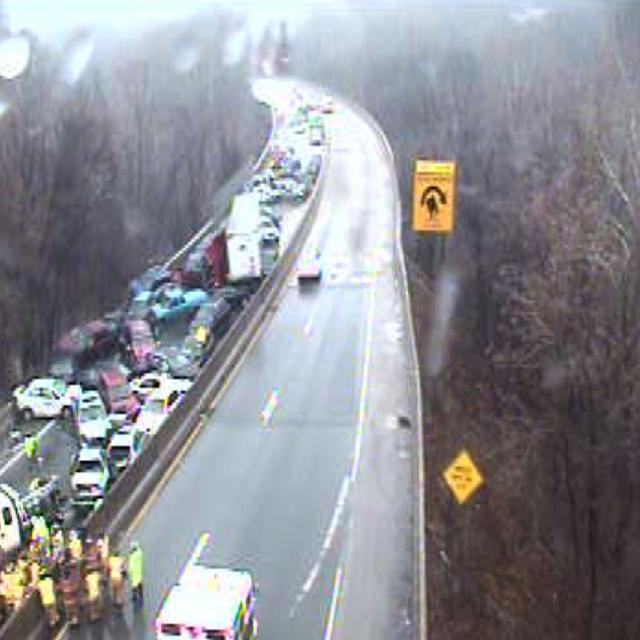Accident: (56, 318, 182, 400), (9, 376, 108, 446), (131, 282, 205, 360), (69, 388, 113, 502), (121, 318, 162, 438), (97, 363, 145, 464), (126, 314, 195, 380)
